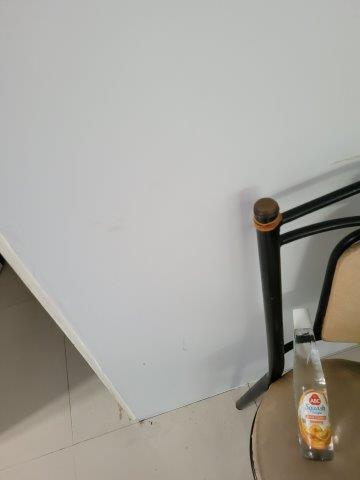botolkaca: (292, 308, 334, 460)
